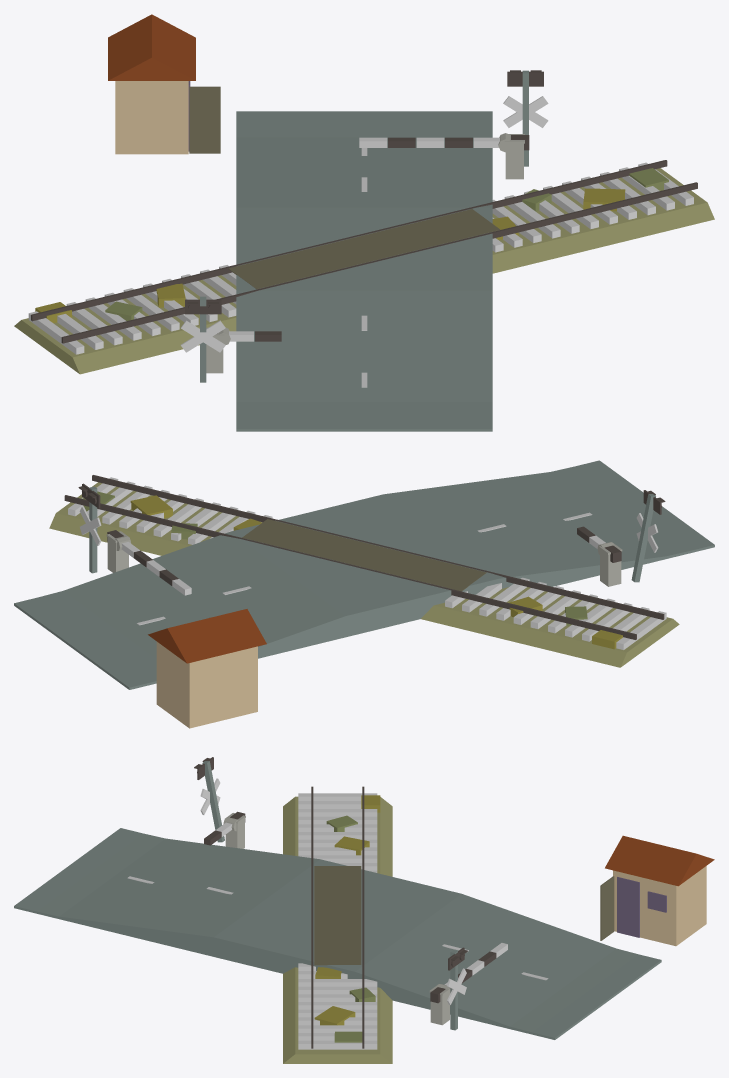
Rendered from SM_PasoNivel_60E_v2_Abandonado_LOD0.fbx.
3 renders of one model, top to bottom at view 1: azimuth 30°, elevation 25°; view 2: azimuth 150°, elevation 25°; view 3: azimuth 270°, elevation 25°, orthographic. The views are drawn at different scales.
Parts seen in each view (by area): view 1: SM_paso_nivel_kit_v27_LOD0, Barrera_1, Barrera_2; view 2: SM_paso_nivel_kit_v27_LOD0, Barrera_1, Barrera_2; view 3: SM_paso_nivel_kit_v27_LOD0, Barrera_1, Barrera_2.
Part boxes in pixels (x1=…): SM_paso_nivel_kit_v27_LOD0: x1=14, y1=14, x2=714, y2=431; Barrera_1: x1=359, y1=133, x2=529, y2=152; Barrera_2: x1=217, y1=328, x2=281, y2=344; SM_paso_nivel_kit_v27_LOD0: x1=14, y1=460, x2=714, y2=728; Barrera_1: x1=107, y1=530, x2=191, y2=595; Barrera_2: x1=577, y1=526, x2=621, y2=562; SM_paso_nivel_kit_v27_LOD0: x1=14, y1=757, x2=714, y2=1063; Barrera_1: x1=430, y1=943, x2=507, y2=1003; Barrera_2: x1=204, y1=811, x2=245, y2=845.
Bounding box in the file's own units: 20 × 3.04 × 23.01.
